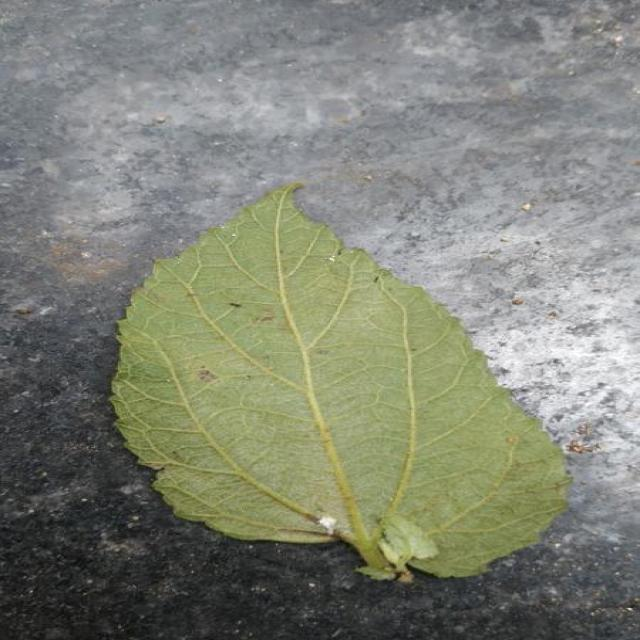gasagase: (112, 184, 570, 580)
